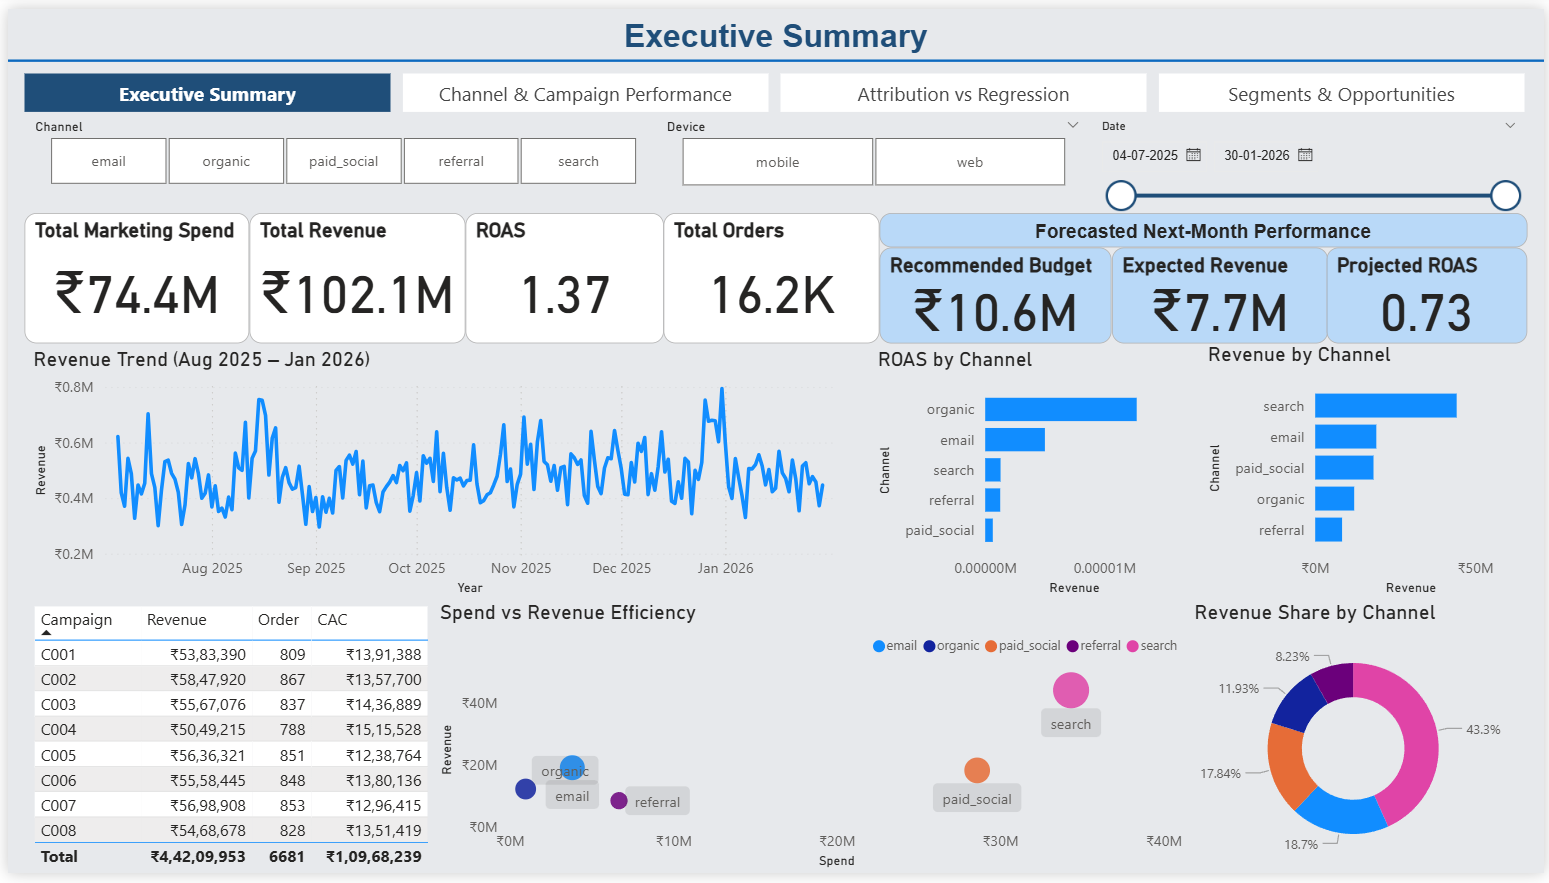

The page's visual inventory and layout, read from the dashboard file:
{"tool":"powerbi","page":{"name":"Executive Summary","canvas":[1280,720],"ordinal":0},"visuals":[{"type":"card","title":"Total Marketing Spend","fields":{"Values":["Sum(fact_channel_daily.total_spend)"]},"box":[14.2,170.4,187.5,108.8],"z":0},{"type":"card","title":"Total Revenue","fields":{"Values":["Sum(fact_channel_daily.attributed_revenue)"]},"box":[201.7,170.4,180,108.8],"z":1000},{"type":"card","title":"Total Orders","fields":{"Values":["Sum(fact_channel_daily.attributed_orders)"]},"box":[546.7,170.4,180,108.8],"z":2000},{"type":"card","title":"ROAS","fields":{"Values":["fact_channel_daily.ROAS"]},"box":[381.7,170.4,165,108.8],"z":3000},{"type":"lineChart","title":"Revenue Trend (Aug 2025 – Jan 2026)","fields":{"Y":["Sum(fact_channel_daily.attributed_revenue)"],"Category":["fact_channel_daily.date"]},"box":[16.2,281.2,691.2,211.2],"z":4000},{"type":"scatterChart","title":"Spend vs Revenue Efficiency","fields":{"X":["Sum(fact_channel_daily.total_spend)"],"Y":["Sum(fact_channel_daily.attributed_revenue)"],"Series":["dim_channel.channel"],"Size":["Sum(fact_channel_daily.attributed_orders)"]},"box":[355,492.5,628.8,227.5],"z":5000},{"type":"clusteredBarChart","title":"Revenue by Channel","fields":{"Category":["dim_channel.channel"],"Y":["Sum(fact_channel_daily.attributed_revenue)"]},"box":[995,277.5,275,215],"z":6000},{"type":"clusteredBarChart","title":"ROAS by Channel","fields":{"Category":["dim_channel.channel"],"Y":["fact_channel_daily.ROAS"]},"box":[720,281.2,275,211.2],"z":7000},{"type":"tableEx","fields":{"Values":["dim_campaign.campaign_id","Sum(fact_campaign_daily.attributed_revenue)","Sum(fact_campaign_daily.attributed_orders)","Sum(fact_campaign_daily.CAC_proxy)"]},"box":[16.2,492.5,338.8,227.5],"z":8000},{"type":"donutChart","title":"Revenue Share by Channel","fields":{"Category":["dim_channel.channel"],"Y":["Sum(fact_channel_daily.attributed_revenue)"]},"box":[983.8,492.5,273.8,227.5],"z":9000},{"type":"card","title":"Expected Revenue","fields":{"Values":["budget_kpis.Expected Revenue"]},"box":[919.6,198.9,180,80],"z":10000},{"type":"card","title":"Recommended Budget","fields":{"Values":["budget_kpis.Recommended Budget"]},"box":[726.3,198.9,193.3,80],"z":11000},{"type":"card","title":"Projected ROAS","fields":{"Values":["budget_kpis.Projected ROAS"]},"box":[1099.2,199.2,167.5,80],"z":12000},{"type":"textbox","box":[726.2,170,540,28.8],"z":13000},{"type":"slicer","title":"Channel","fields":{"Values":["dim_channel.channel"]},"box":[10,86.2,537.5,66.2],"z":14000},{"type":"slicer","fields":{"Values":["fact_sessions.device"]},"box":[536.2,86.2,368.8,67.5],"z":15000},{"type":"slicer","title":"Date","fields":{"Values":["fact_channel_daily.date"]},"box":[903.8,92.5,360,77.5],"z":16000},{"type":"textbox","box":[0,0,1280,44.4],"z":17000},{"type":"shape","box":[0,22.2,1280,41.1],"z":18000},{"type":"pageNavigator","box":[13.3,53.3,1251.1,32.2],"z":19000}]}

Visuals, with their boxes in screenshot pixels (x1, y1, x2, y2), scaled from the page's 1280x720 canvas onto the 1549x883 screenshot:
"Total Marketing Spend" card: l=17, t=209, r=244, b=342
"Total Revenue" card: l=244, t=209, r=462, b=342
"Total Orders" card: l=662, t=209, r=879, b=342
"ROAS" card: l=462, t=209, r=662, b=342
"Revenue Trend (Aug 2025 – Jan 2026)" lineChart: l=20, t=345, r=856, b=604
"Spend vs Revenue Efficiency" scatterChart: l=430, t=604, r=1191, b=882
"Revenue by Channel" clusteredBarChart: l=1204, t=340, r=1537, b=604
"ROAS by Channel" clusteredBarChart: l=871, t=345, r=1204, b=604
tableEx - dim_campaign.campaign_id x Sum(fact_campaign_daily.attributed_revenue): l=20, t=604, r=430, b=882
"Revenue Share by Channel" donutChart: l=1191, t=604, r=1522, b=882
"Expected Revenue" card: l=1113, t=244, r=1331, b=342
"Recommended Budget" card: l=879, t=244, r=1113, b=342
"Projected ROAS" card: l=1330, t=244, r=1533, b=342
textbox: l=879, t=208, r=1532, b=244
"Channel" slicer: l=12, t=106, r=663, b=187
slicer - fact_sessions.device: l=649, t=106, r=1095, b=188
"Date" slicer: l=1094, t=113, r=1529, b=208
textbox: l=0, t=0, r=1548, b=54
shape: l=0, t=27, r=1548, b=78
pageNavigator: l=16, t=65, r=1530, b=105
